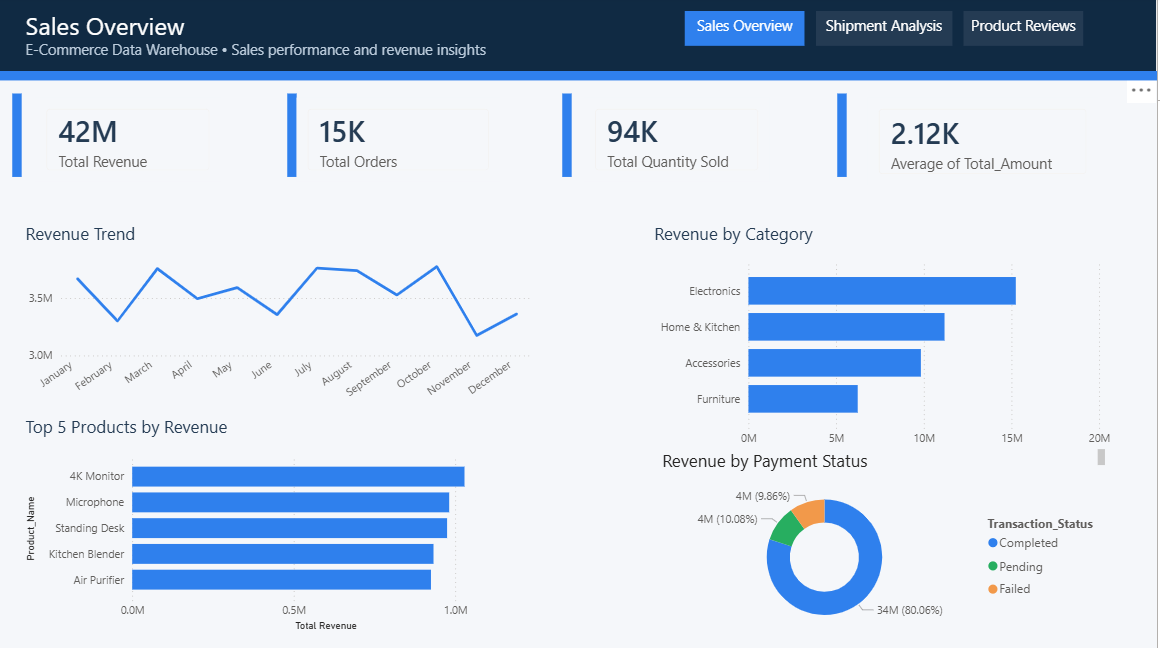

What the dashboard file says about the page in this screenshot:
{"tool":"powerbi","page":{"name":"Sales Overview","canvas":[1280,720],"ordinal":0},"visuals":[{"type":"textbox","box":[0,0,1280,86],"z":0},{"type":"textbox","box":[0,82,1280,4],"z":1000},{"type":"textbox","box":[27.4,9.6,561.2,72.7],"z":2000},{"type":"textbox","box":[27.4,42.5,701.2,39.8],"z":3000},{"type":"textbox","box":[760,16,132,38],"z":4000},{"type":"textbox","box":[904,16,150,38],"z":5000},{"type":"textbox","box":[1066,16,132,38],"z":6000},{"type":"textbox","box":[17.9,107.6,6,92],"z":7000,"group":"g1"},{"type":"textbox","box":[27.6,243.9,569.2,52.4],"z":7000},{"type":"textbox","box":[320.9,107.6,6,92],"z":8000,"group":"g1"},{"type":"textbox","box":[720.8,243.9,498.9,37.2],"z":8000},{"type":"textbox","box":[623.9,107.6,6,92],"z":9000,"group":"g1"},{"type":"textbox","box":[27.6,457.5,569.2,37.2],"z":9000},{"type":"textbox","box":[926.9,107.6,6,92],"z":10000,"group":"g1"},{"type":"textbox","box":[729,494.7,498.9,37.2],"z":10000},{"type":"lineChart","fields":{"Category":["DimDate.FullDate.Variation.Date Hierarchy.Month"],"Y":["Fact_Sales.Total Revenue"]},"box":[27.6,281.1,569.2,176.4],"z":11000},{"type":"group","id":"g1","title":"Group 1","box":[17.9,107.5,1201.7,106.1],"z":12000},{"type":"clusteredBarChart","fields":{"Category":["DimProduct.Category"],"Y":["Fact_Sales.Total Revenue"]},"box":[720.8,281.1,512.7,224.6],"z":13000},{"type":"clusteredBarChart","fields":{"Category":["DimProduct.Product_Name"],"Y":["Fact_Sales.Total Revenue"]},"box":[27.6,494.7,569.2,210.9],"z":14000},{"type":"donutChart","fields":{"Category":["DimPayment.Transaction_Status"],"Y":["Fact_Sales.Total Revenue"]},"box":[729,532,499,174],"z":15000},{"type":"actionButton","box":[904.1,13.8,150.2,40],"z":15001},{"type":"actionButton","box":[1066.7,16.5,132.3,40],"z":15002},{"type":"cardVisual","fields":{"Data":["Fact_Sales.Total Revenue"]},"box":[37.9,108.2,214.1,102.9],"z":22000,"group":"g1"},{"type":"cardVisual","fields":{"Data":["Fact_Sales.Total Orders"]},"box":[326.1,108.2,234.6,102.9],"z":23000,"group":"g1"},{"type":"cardVisual","fields":{"Data":["Fact_Sales.Total Quantity Sold"]},"box":[643.1,108.2,214.1,102.9],"z":24000,"group":"g1"},{"type":"cardVisual","fields":{"Data":["Avg(Fact_Sales.Total_Amount)"]},"box":[956,107.5,263.2,106.1],"z":25000,"group":"g1"}]}

Visuals, with their boxes in screenshot pixels (x1, y1, x2, y2), scaled from the page's 1280x720 canvas onto the 1160x648 screenshot:
textbox: <bbox>0, 0, 1159, 77</bbox>
textbox: <bbox>0, 74, 1159, 77</bbox>
textbox: <bbox>25, 9, 533, 74</bbox>
textbox: <bbox>25, 38, 660, 74</bbox>
textbox: <bbox>689, 14, 808, 49</bbox>
textbox: <bbox>819, 14, 955, 49</bbox>
textbox: <bbox>966, 14, 1086, 49</bbox>
textbox: <bbox>16, 97, 22, 180</bbox>
textbox: <bbox>25, 220, 541, 267</bbox>
textbox: <bbox>291, 97, 296, 180</bbox>
textbox: <bbox>653, 220, 1105, 253</bbox>
textbox: <bbox>565, 97, 571, 180</bbox>
textbox: <bbox>25, 412, 541, 445</bbox>
textbox: <bbox>840, 97, 845, 180</bbox>
textbox: <bbox>661, 445, 1113, 479</bbox>
lineChart - DimDate.FullDate.Variation.Date Hierarchy.Month x Fact_Sales.Total Revenue: <bbox>25, 253, 541, 412</bbox>
"Group 1" group: <bbox>16, 97, 1105, 192</bbox>
clusteredBarChart - DimProduct.Category x Fact_Sales.Total Revenue: <bbox>653, 253, 1118, 455</bbox>
clusteredBarChart - DimProduct.Product_Name x Fact_Sales.Total Revenue: <bbox>25, 445, 541, 635</bbox>
donutChart - DimPayment.Transaction_Status x Fact_Sales.Total Revenue: <bbox>661, 479, 1113, 635</bbox>
actionButton: <bbox>819, 12, 955, 48</bbox>
actionButton: <bbox>967, 15, 1087, 51</bbox>
cardVisual - Fact_Sales.Total Revenue: <bbox>34, 97, 228, 190</bbox>
cardVisual - Fact_Sales.Total Orders: <bbox>296, 97, 508, 190</bbox>
cardVisual - Fact_Sales.Total Quantity Sold: <bbox>583, 97, 777, 190</bbox>
cardVisual - Avg(Fact_Sales.Total_Amount): <bbox>866, 97, 1105, 192</bbox>
